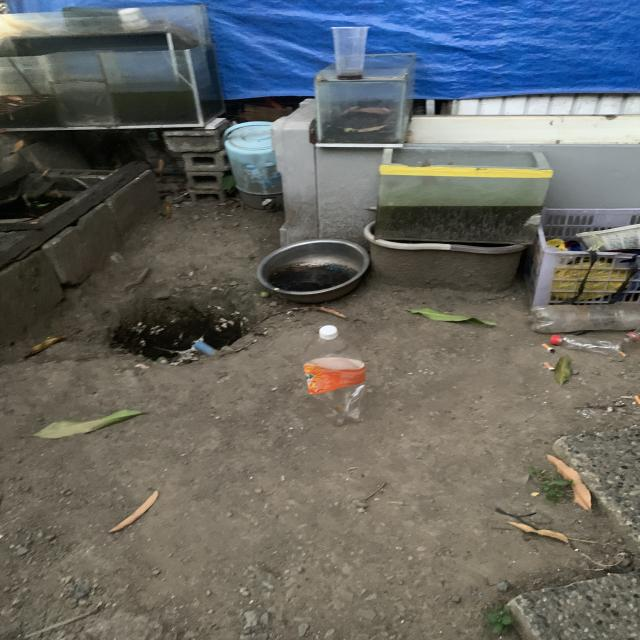Bottle: (303, 326, 366, 426)
